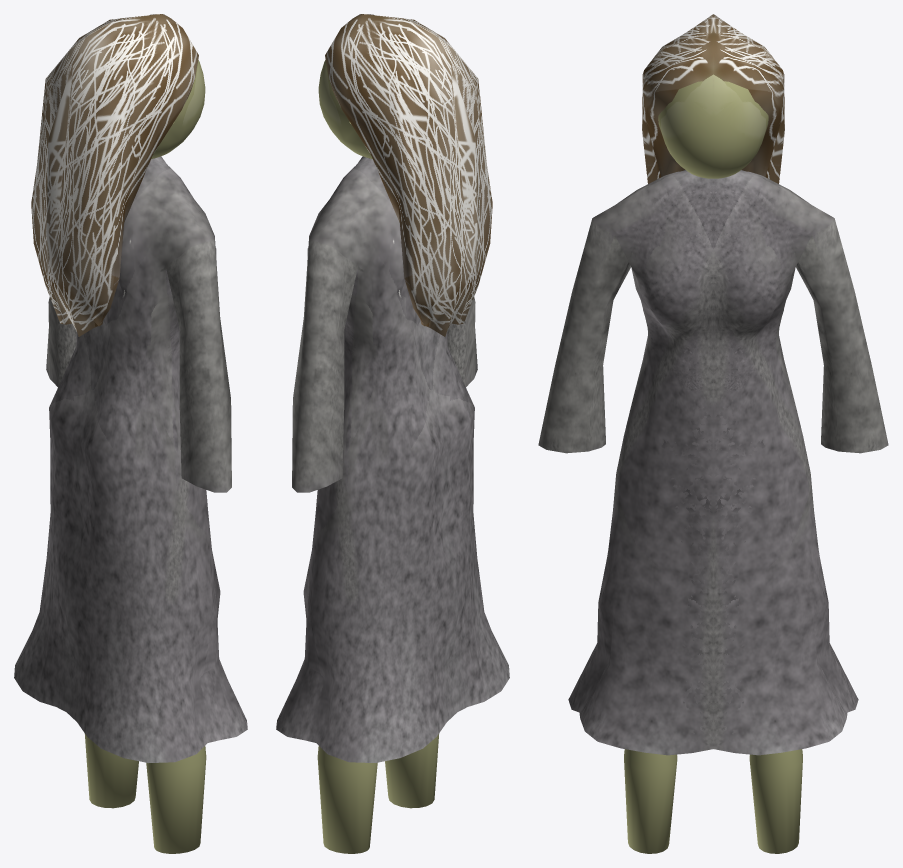
File: CreepyWoman.fbx
3 renders of one model, left to right at view 1: azimuth 30°, elevation 25°; view 2: azimuth 150°, elevation 25°; view 3: azimuth 270°, elevation 25°, orthographic.
Parts seen in each view (by area): view 1: Body; view 2: Body; view 3: Body.
Boxes of the visible parts, x1,y1,x2,y2 form: Body: [14, 14, 247, 853]; Body: [276, 14, 509, 853]; Body: [538, 14, 888, 853].
Bounding box in the file's own units: 79.95 × 384 × 150.
